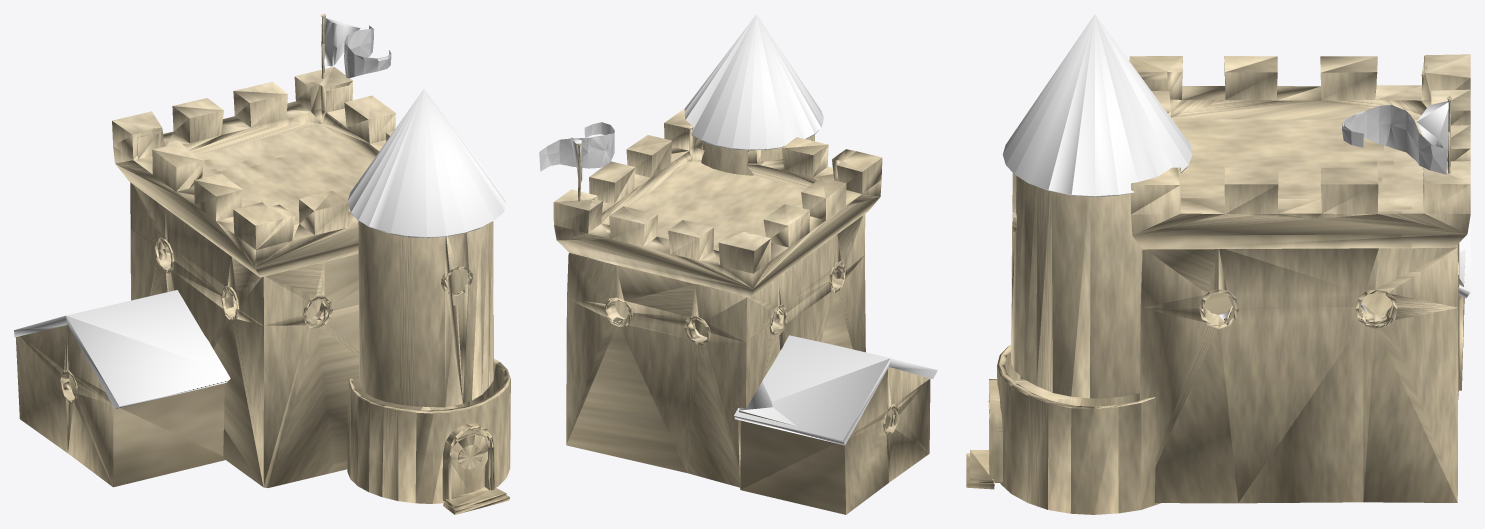
3 renders of one model, left to right at view 1: azimuth 30°, elevation 25°; view 2: azimuth 150°, elevation 25°; view 3: azimuth 270°, elevation 25°, orthographic. The views are drawn at different scales.
Visible parts, largest first — view 1: castle; view 2: castle; view 3: castle.
Boxes of the visible parts, x1,y1,x2,y2 form: castle: (14,14,510,514); castle: (539,14,937,514); castle: (966,14,1470,514).
Size of the model in its own units: 2.75 by 2.9 by 2.9.
2 materials, 1 textured.
